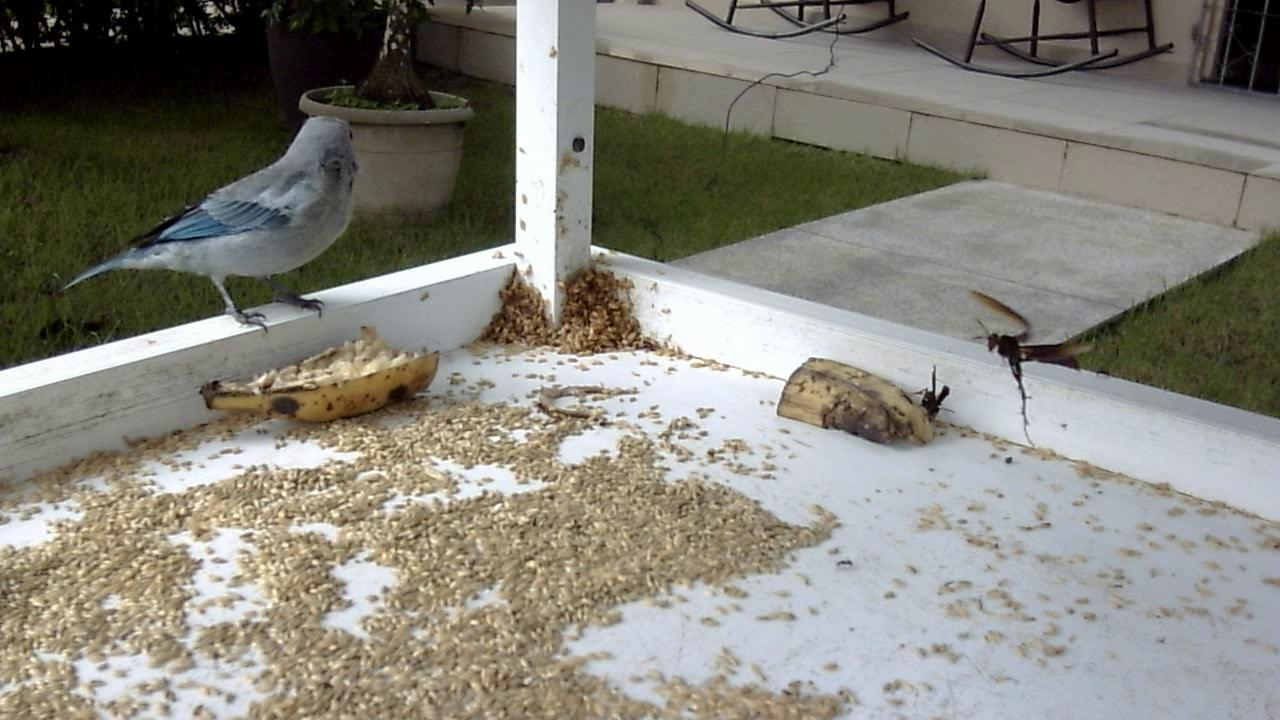sanhaco_da_amazonia: (47, 96, 364, 337)
